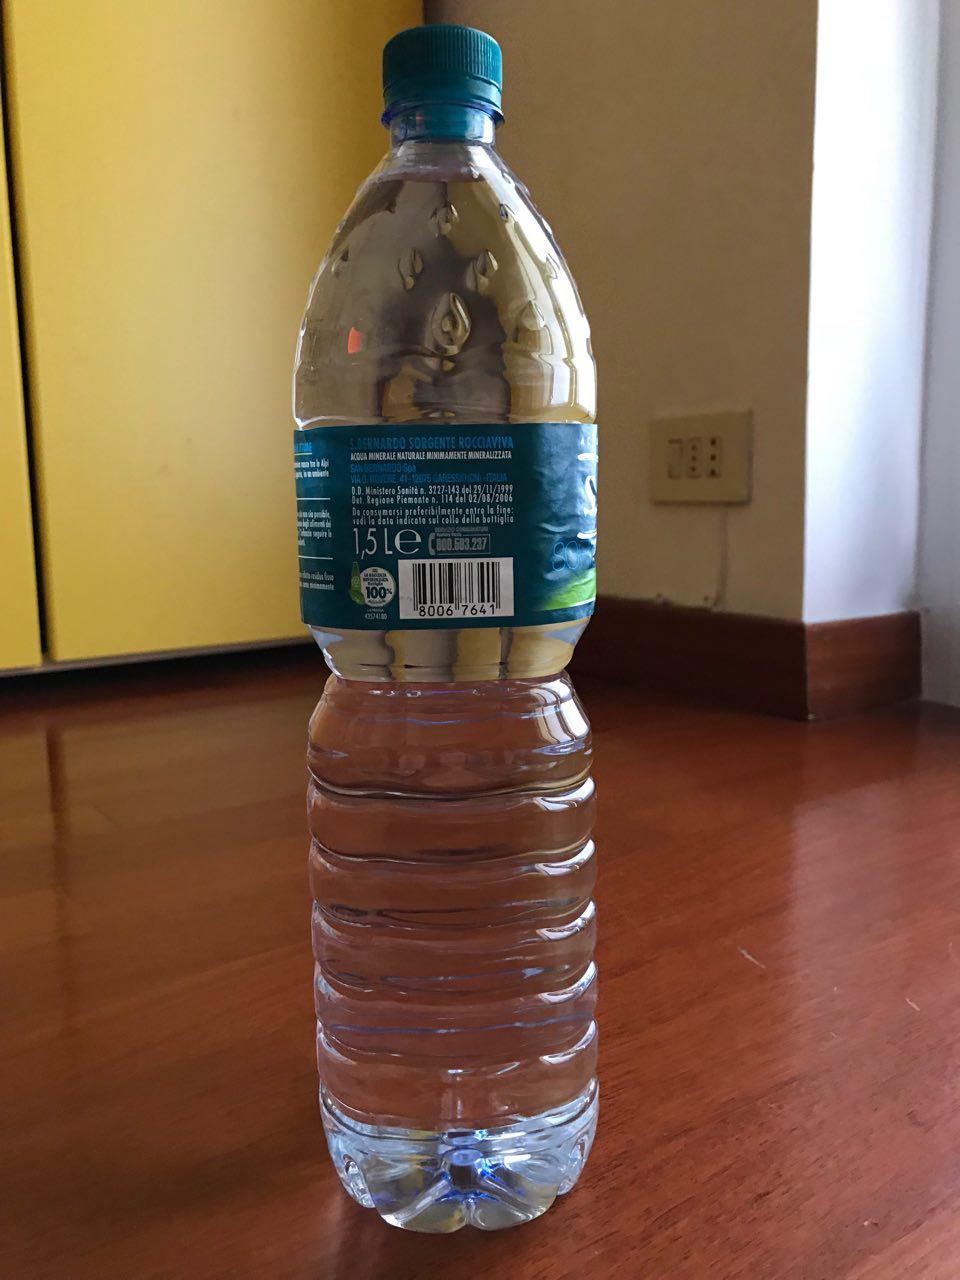san_bernardo: (290, 21, 602, 1238)
